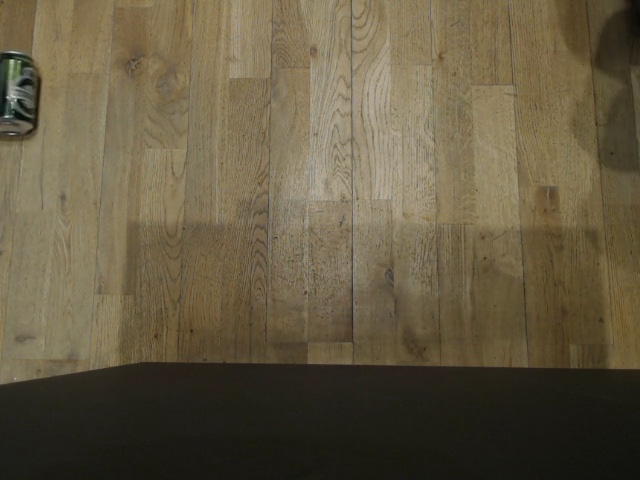beer: (0, 46, 41, 141)
